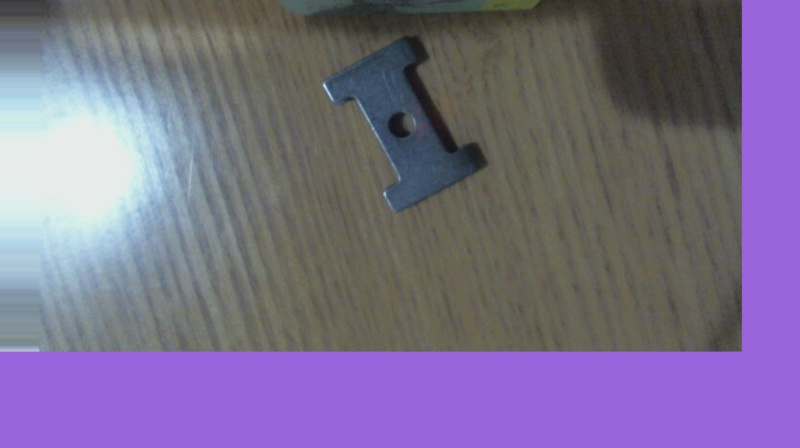O002: (321, 34, 486, 213)
